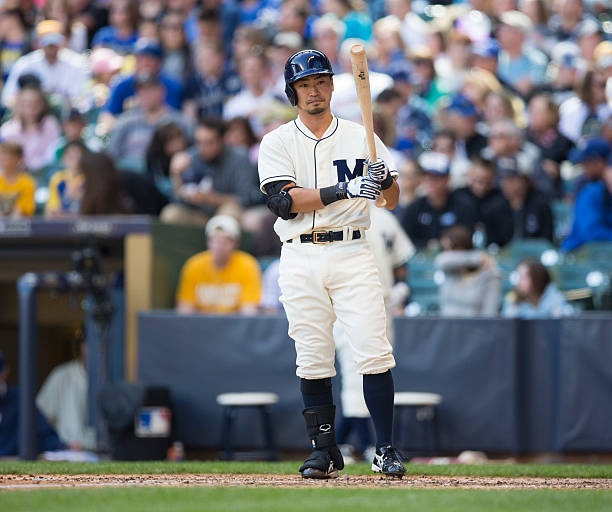bita: (349, 38, 389, 178)
